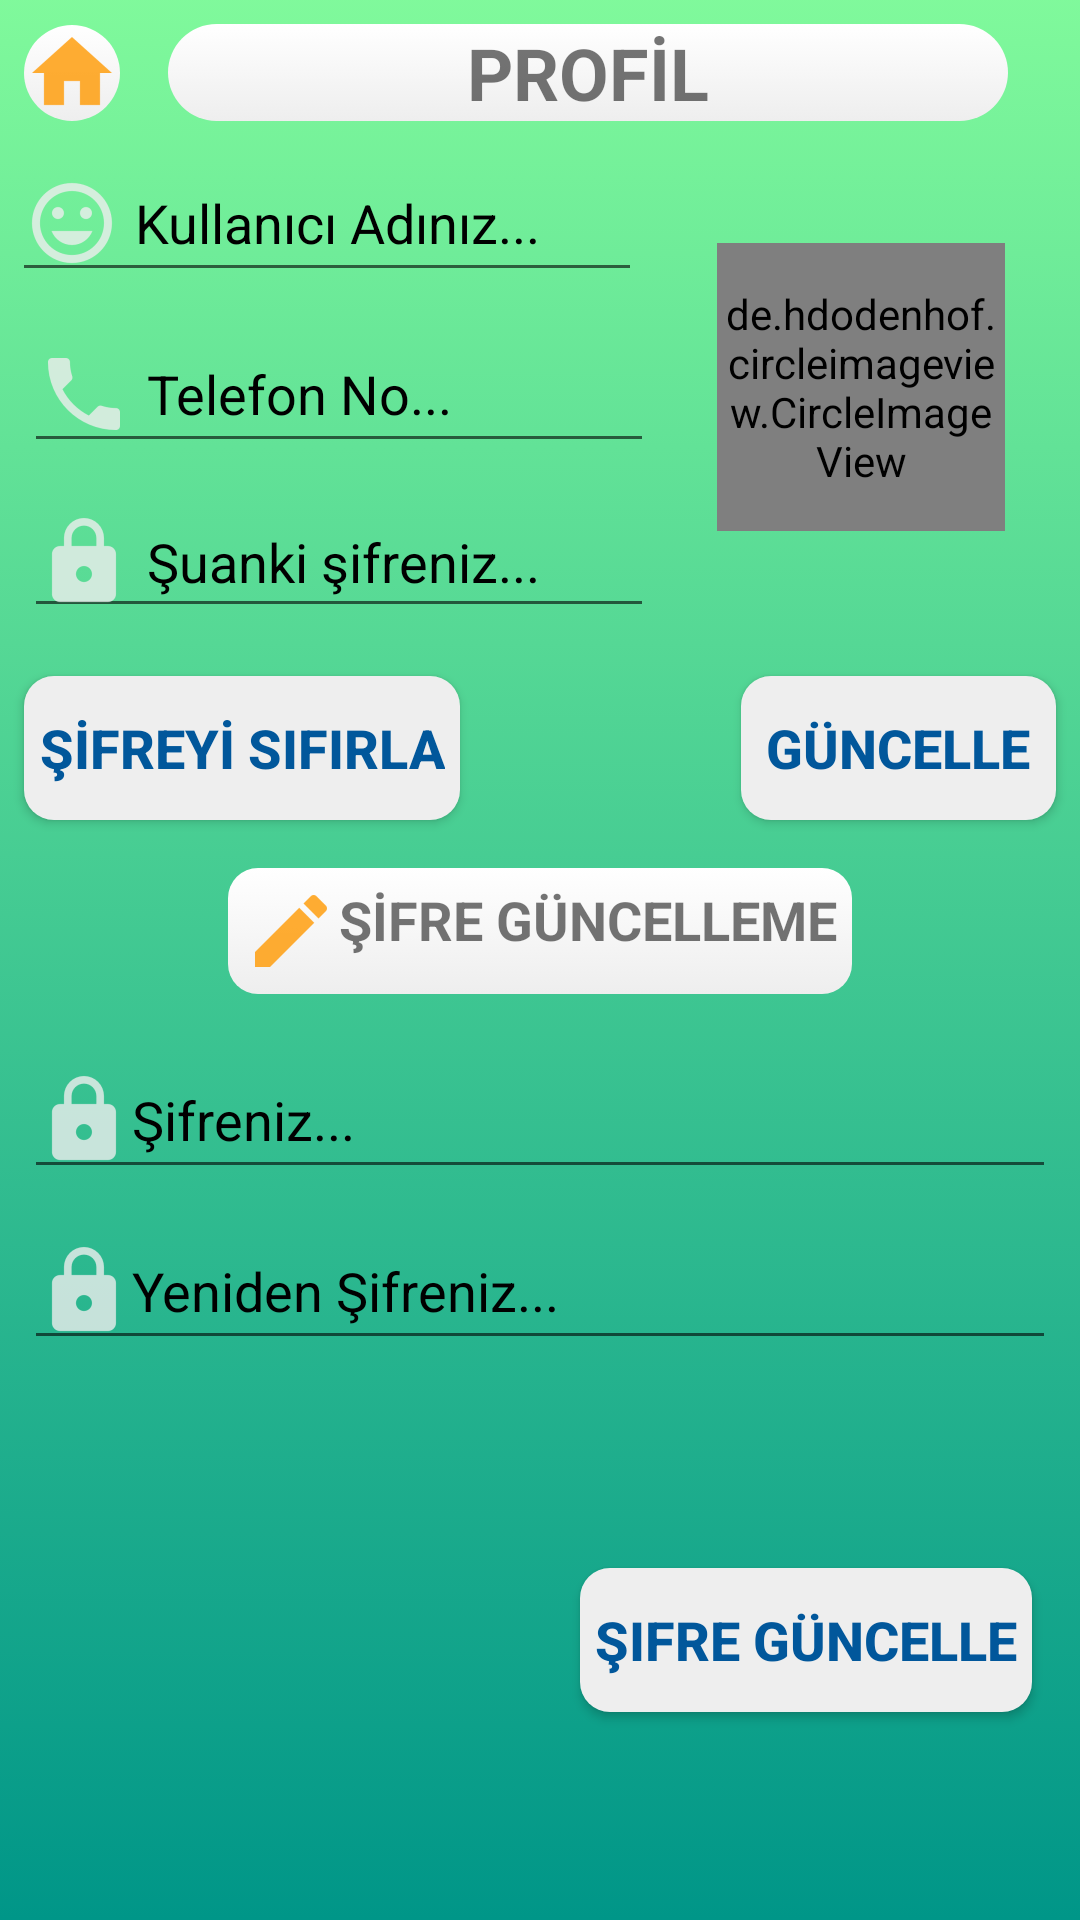

Point at icon controls on the screen. Image size 1080x1920, points as (x,y).
home: (72,73)
